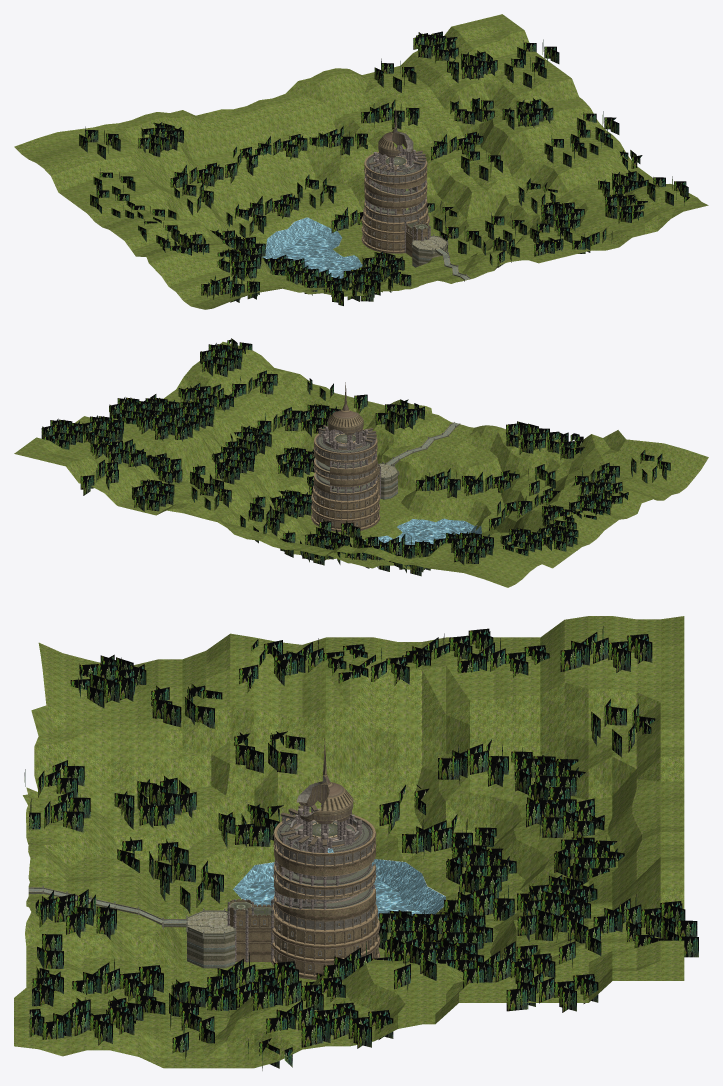
The model's file is Stargazer.glb.
The picture shows the model from 3 angles, top to bottom: view 1: azimuth 30°, elevation 25°; view 2: azimuth 150°, elevation 25°; view 3: azimuth 270°, elevation 25°; orthographic projection. The views are drawn at different scales.
Parts seen in each view (by area): view 1: gr_base2, plt54_111, oc1_wall, water, oc2_pillar01, oc2_pillar04; view 2: gr_base2, plt54_111, oc1_wall, oc2_pillar01, water, oc2_pillar04, bridge_floor19; view 3: gr_base2, plt54_111, oc1_wall, oc2_pillar01, polySurface38, water, bridge_floor19, oc2_pillar03, oc2_pillar04.
Part boxes in pixels (box(x1,y1,x2,y2)): gr_base2: box(14, 14, 708, 309); plt54_111: box(79, 31, 689, 305); oc1_wall: box(361, 150, 429, 257); water: box(274, 234, 354, 278); oc2_pillar01: box(368, 104, 426, 175); oc2_pillar04: box(362, 206, 428, 251); gr_base2: box(14, 342, 708, 587); plt54_111: box(41, 338, 670, 576); oc1_wall: box(311, 429, 380, 531); oc2_pillar01: box(318, 382, 376, 450); water: box(404, 524, 470, 544); oc2_pillar04: box(312, 484, 379, 529); bridge_floor19: box(378, 422, 460, 479); gr_base2: box(14, 616, 684, 1068); plt54_111: box(24, 626, 698, 1070); oc1_wall: box(228, 812, 380, 979); oc2_pillar01: box(280, 738, 362, 853); polySurface38: box(187, 930, 234, 968); water: box(245, 879, 421, 918); bridge_floor19: box(28, 887, 234, 936); oc2_pillar03: box(227, 838, 375, 962); oc2_pillar04: box(274, 903, 378, 975).
Size of the model in its own units: 1265 by 335 by 928.
Materials: 47 (46 with a texture image).
